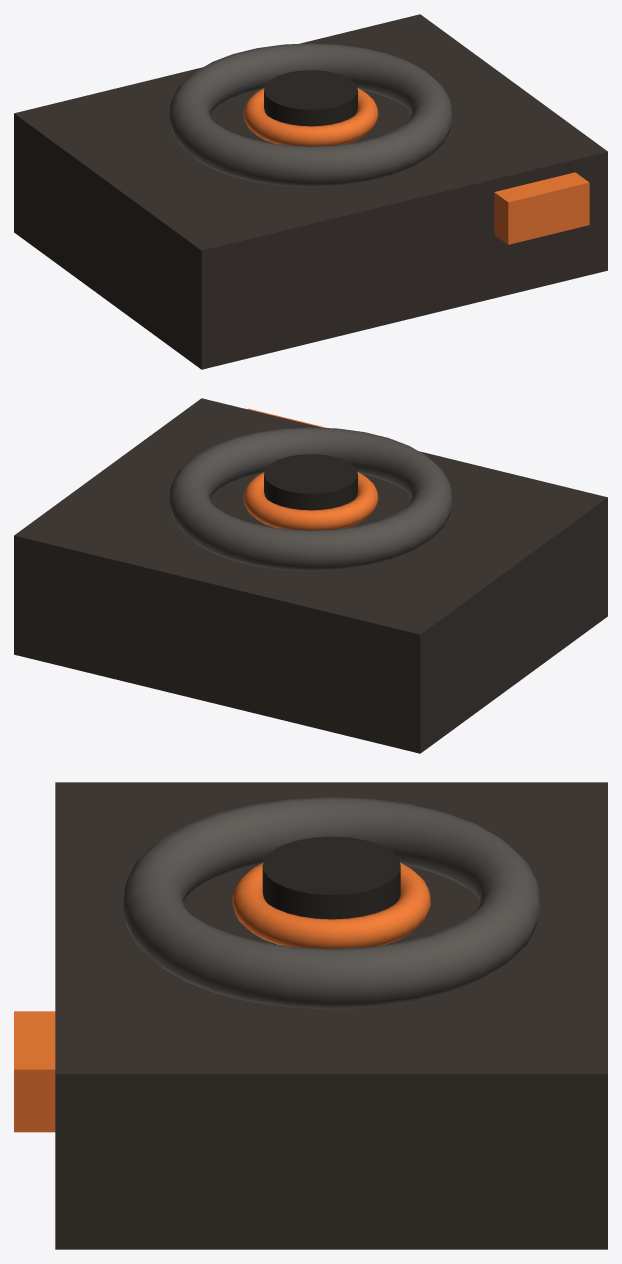
Rendered from home_eq_wok_burner.glb.
3 renders of one model, top to bottom at view 1: azimuth 30°, elevation 25°; view 2: azimuth 150°, elevation 25°; view 3: azimuth 270°, elevation 25°, orthographic. The views are drawn at different scales.
Size of the model in its own units: 0.5 by 0.19 by 0.43.
